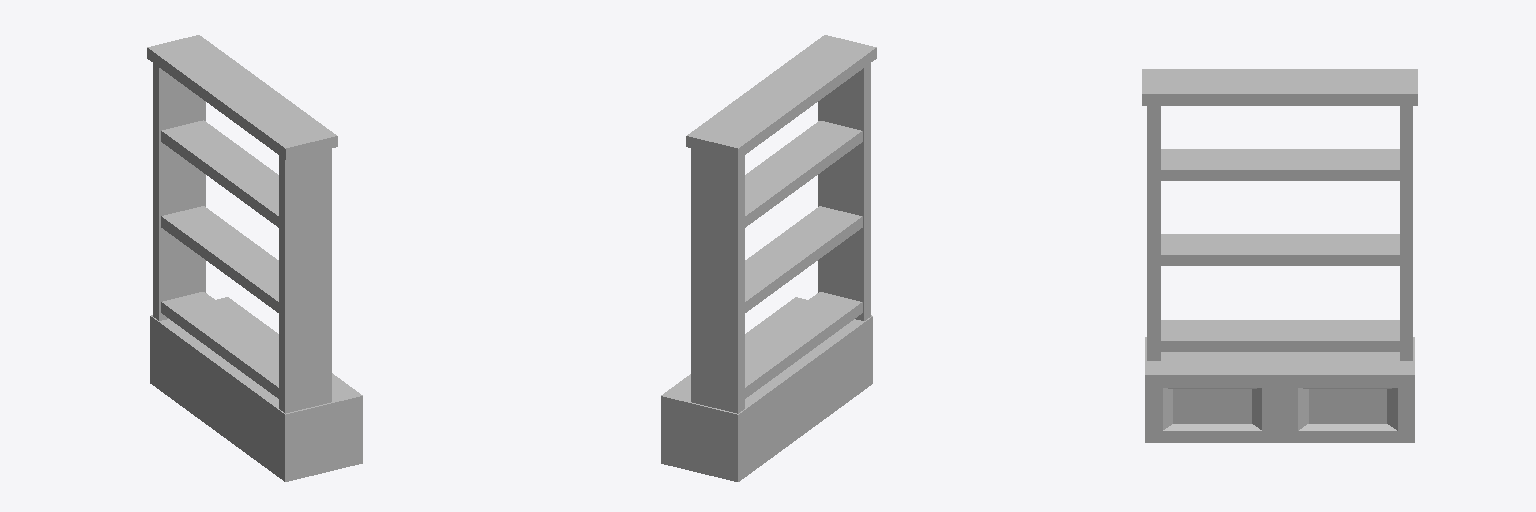
File: Shelf_02.obj
3 views of the same model, side by side, from view 1: azimuth 30°, elevation 25°; view 2: azimuth 150°, elevation 25°; view 3: azimuth 270°, elevation 25° (orthographic).
Parts seen in each view (by area): view 1: Shelf_02_Cube.002; view 2: Shelf_02_Cube.002; view 3: Shelf_02_Cube.002.
Part boxes in pixels (left/top/right/bottom): Shelf_02_Cube.002: left=147, top=35, right=362, bottom=481; Shelf_02_Cube.002: left=661, top=35, right=876, bottom=481; Shelf_02_Cube.002: left=1142, top=69, right=1417, bottom=442.
Bounding box in the file's own units: 1.05 × 4.23 × 3.16.